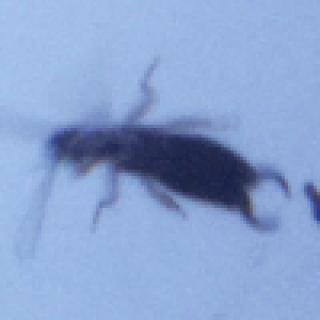earwig: (27, 53, 291, 245)
